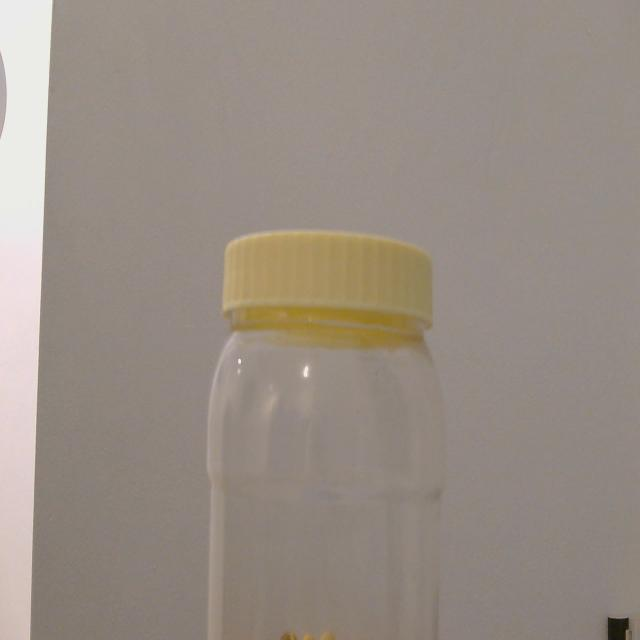cap: (206, 199, 458, 377)
